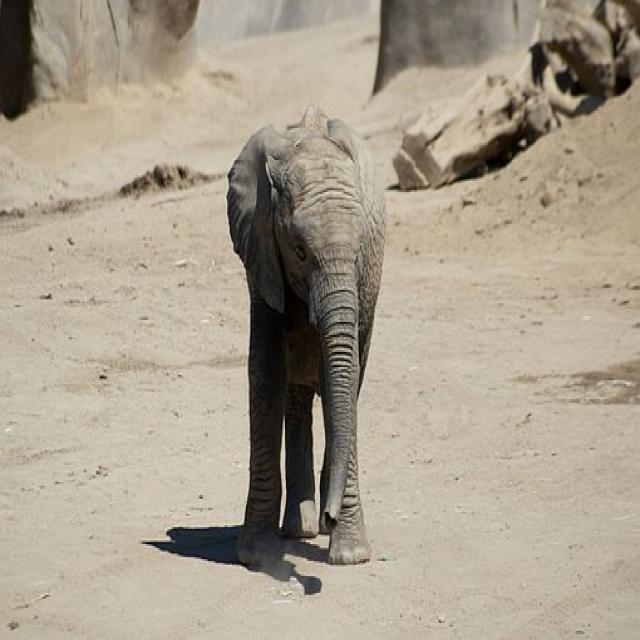Elephant: (218, 97, 419, 591)
